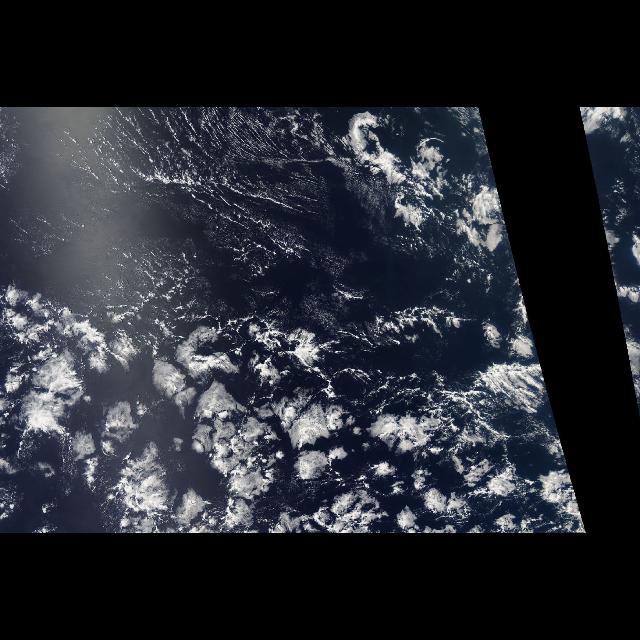Flower: (1, 279, 505, 533)
Sugar: (44, 111, 360, 305)
